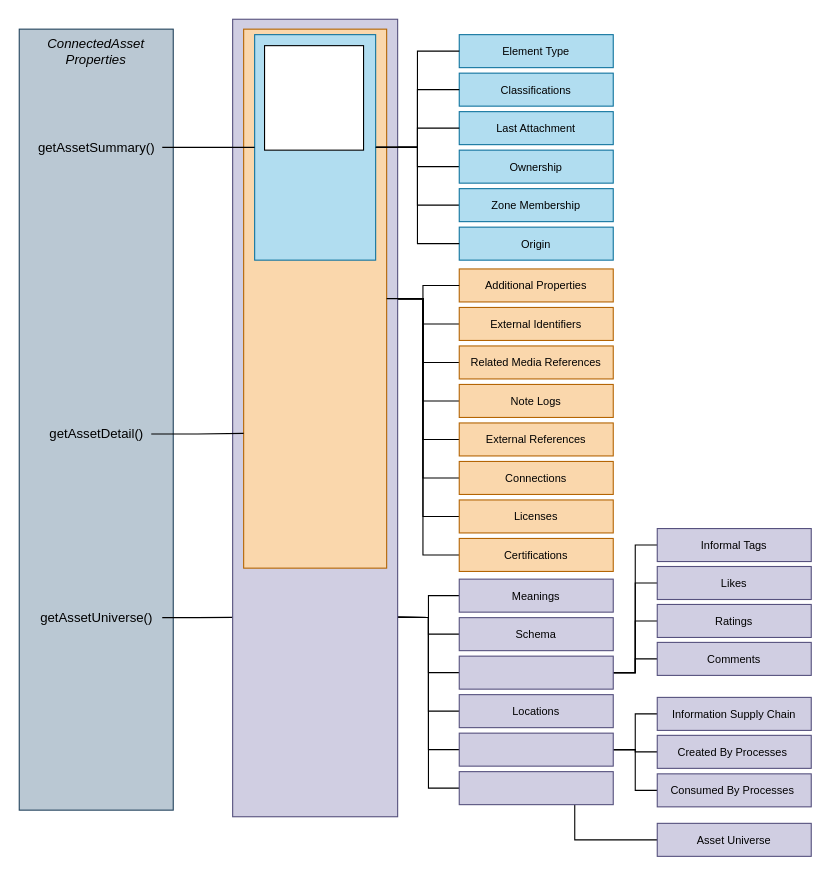
Image size: 831x876. Some labels were removed from this diagram. Here are the shapes that lost their labels. From the top down, the centre of each, then its label:
At (x=313, y=97): "guid url qualifiedName displayName shortDescription description".
At (x=535, y=672): "Feedback".
At (x=535, y=749): "Lineage".
At (x=535, y=788): "Related Assets".
